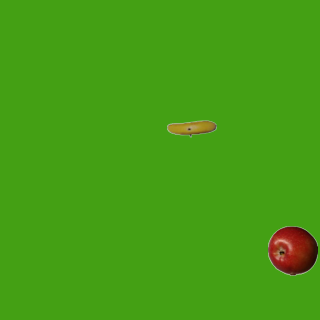Apple Braeburn: (267, 225, 317, 275)
Banana: (166, 103, 216, 153)
